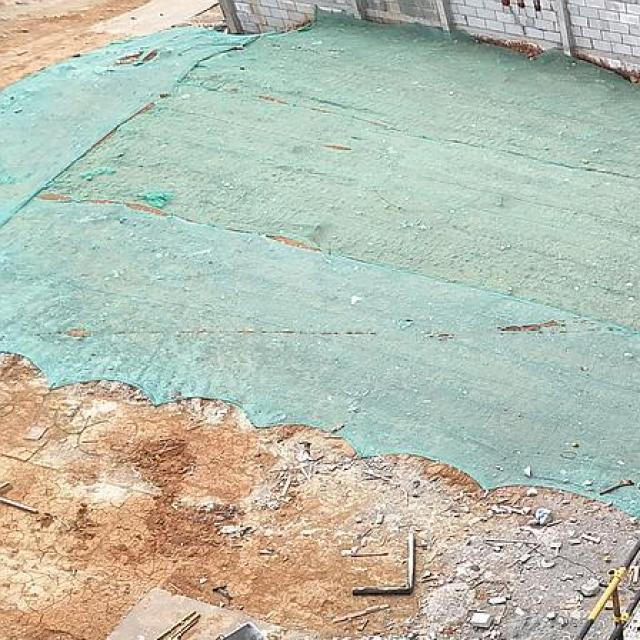edge_guardrail: (573, 541, 640, 640)
